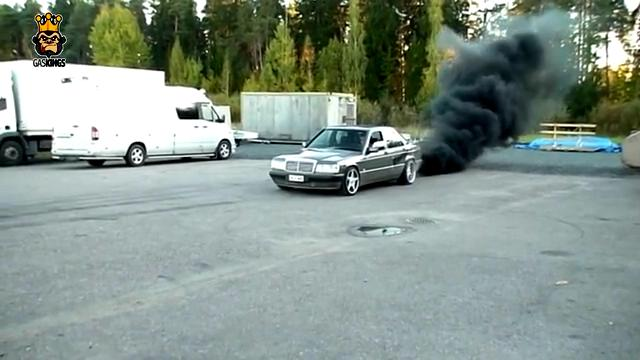smoke: (417, 6, 575, 178)
